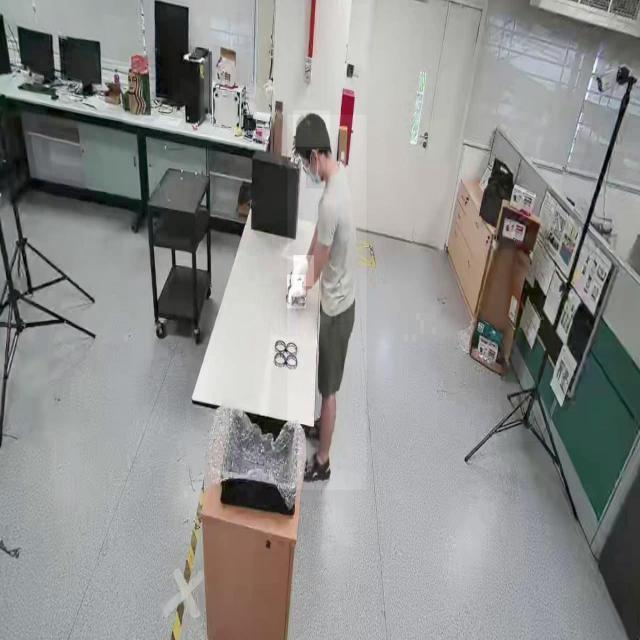gloves: (287, 274, 306, 308), (294, 255, 314, 286)
